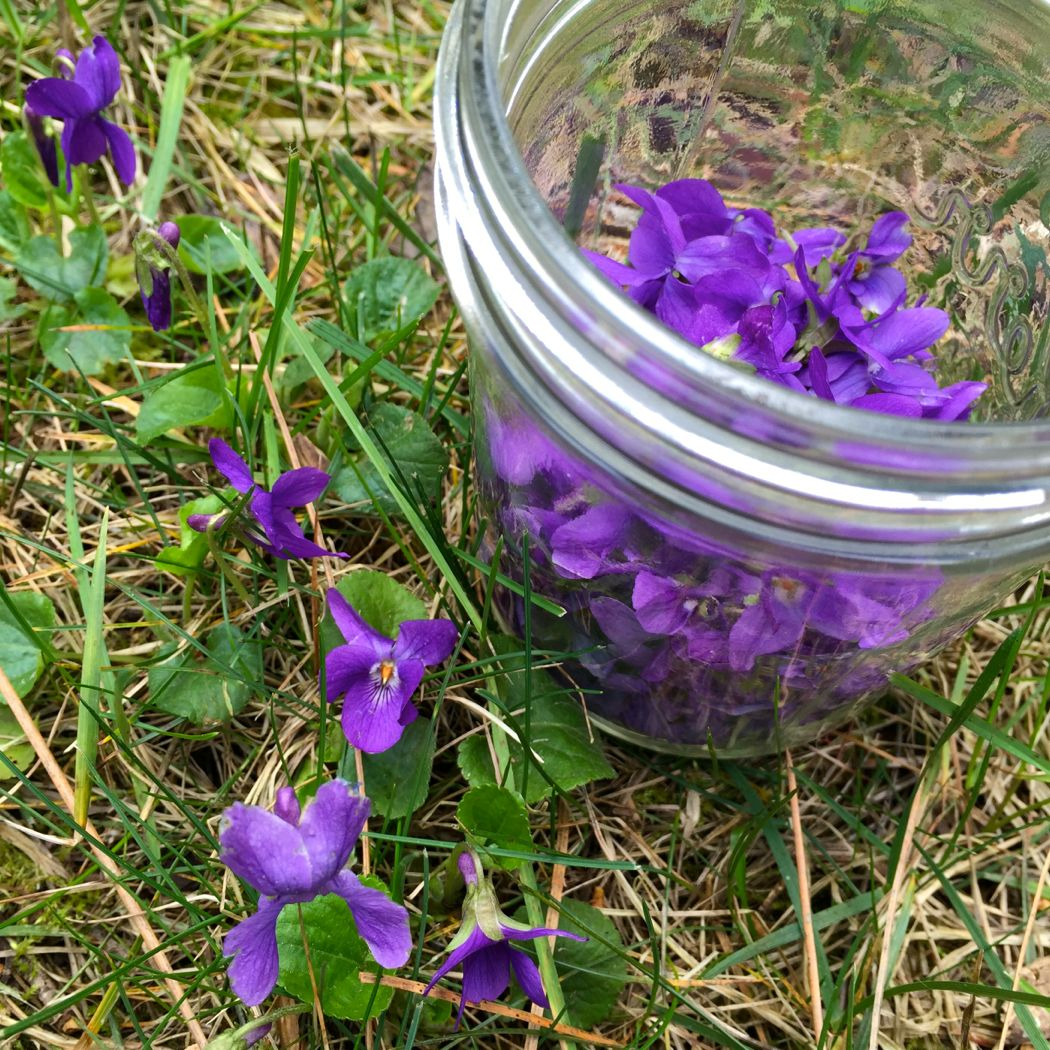violet: (640, 141, 982, 414), (178, 811, 412, 1025), (177, 428, 362, 596), (306, 603, 483, 769)
